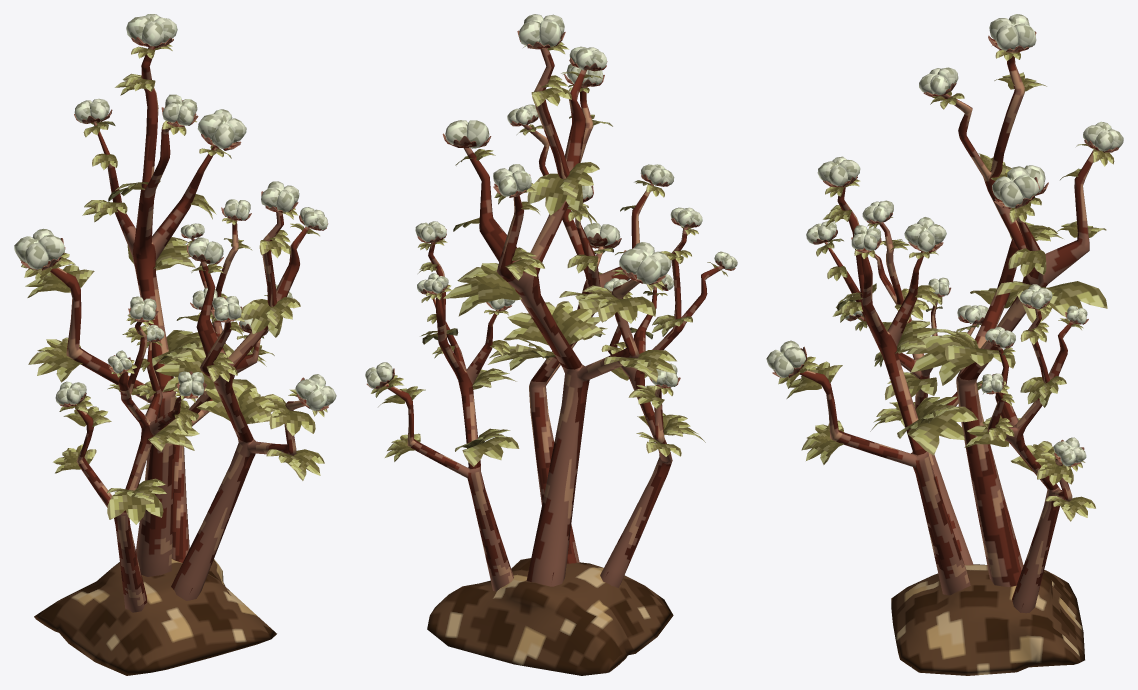
Rendered from (OLD)Cotton Stage3.fbx.
3 renders of one model, left to right at view 1: azimuth 30°, elevation 25°; view 2: azimuth 150°, elevation 25°; view 3: azimuth 270°, elevation 25°, orthographic. The views are drawn at different scales.
Visible parts, largest first — view 1: Cotton_Stage3_Combined; view 2: Cotton_Stage3_Combined; view 3: Cotton_Stage3_Combined.
Part boxes in pixels (x1,y1,x2,y2): Cotton_Stage3_Combined: (14,14,336,675); Cotton_Stage3_Combined: (365,14,737,675); Cotton_Stage3_Combined: (766,14,1123,675).
Bounding box in the file's own units: 23.99 × 51.27 × 26.93.
Materials: 1 (1 with a texture image).
